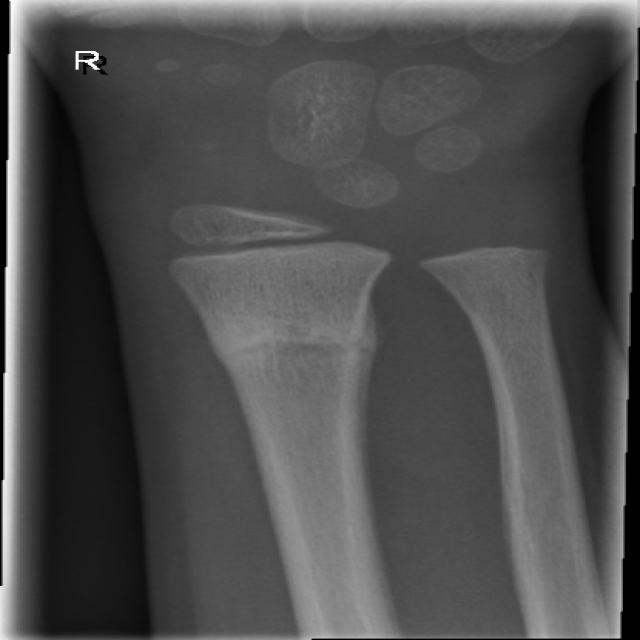radius fracture: (161, 293, 420, 471)
